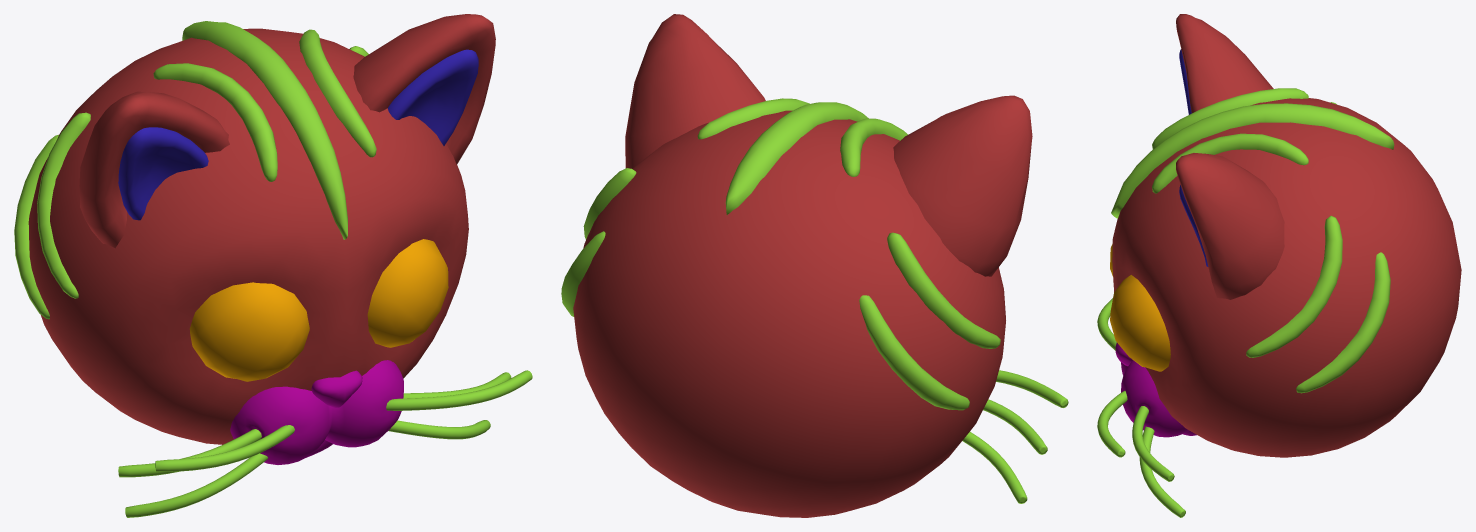
The model's file is CHAR_longCat_head_no_body.fbx.
3 views of the same model, side by side, from view 1: azimuth 30°, elevation 25°; view 2: azimuth 150°, elevation 25°; view 3: azimuth 270°, elevation 25° (orthographic). The views are drawn at different scales.
Parts seen in each view (by area): view 1: head, stripes, ear_outer (×2), eyes, mouth, ear_inner (×2), whiskers; view 2: head, ear_outer (×2), stripes, whiskers; view 3: head, ear_outer (×2), stripes, eyes, whiskers, mouth.
Part boxes in pixels (<box>): head: <box>28,28,468,444</box>; stripes: <box>14,21,376,319</box>; ear_outer (×2): <box>79,14,495,248</box>; eyes: <box>189,239,448,381</box>; mouth: <box>230,360,403,464</box>; ear_inner (×2): <box>118,49,478,220</box>; whiskers: <box>118,370,532,517</box>; head: <box>573,110,1005,517</box>; ear_outer (×2): <box>625,14,1032,276</box>; stripes: <box>561,98,1000,410</box>; whiskers: <box>962,370,1068,503</box>; head: <box>1112,98,1461,457</box>; ear_outer (×2): <box>1176,14,1284,299</box>; stripes: <box>1111,88,1394,393</box>; eyes: <box>1110,244,1170,371</box>; whiskers: <box>1097,298,1185,517</box>; mouth: <box>1115,342,1196,437</box>.
Size of the model in its own units: 3.31 by 3.28 by 3.03.
